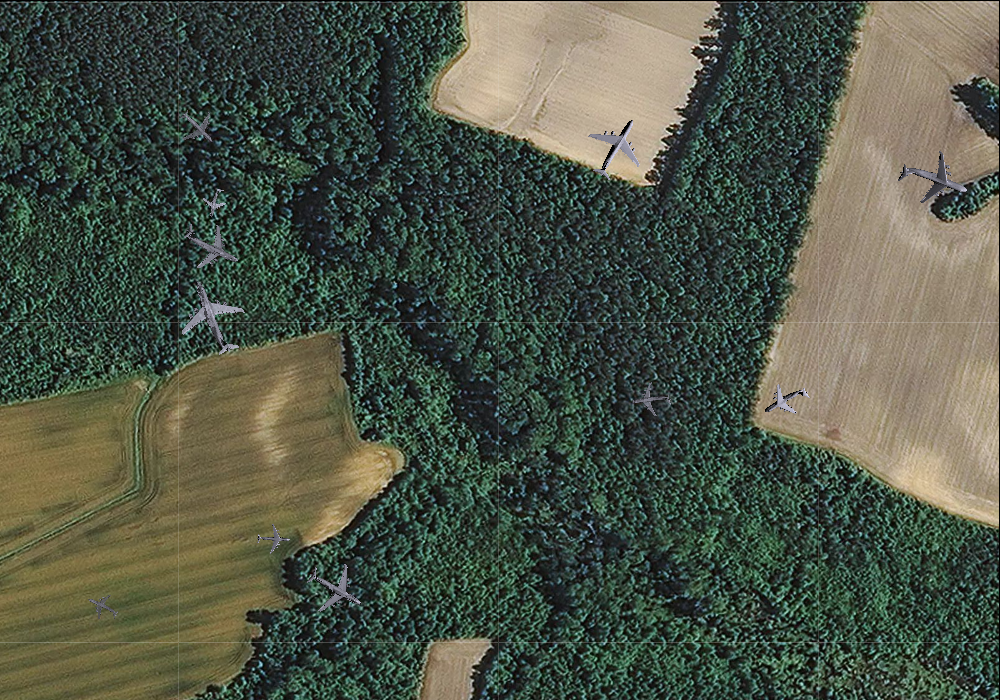plane: (165, 268, 260, 366), (573, 104, 660, 192), (889, 137, 978, 223), (295, 550, 374, 628), (172, 207, 250, 283), (755, 371, 817, 431), (168, 98, 225, 155), (629, 379, 673, 421), (81, 586, 123, 628), (198, 184, 231, 220), (255, 522, 290, 555)
